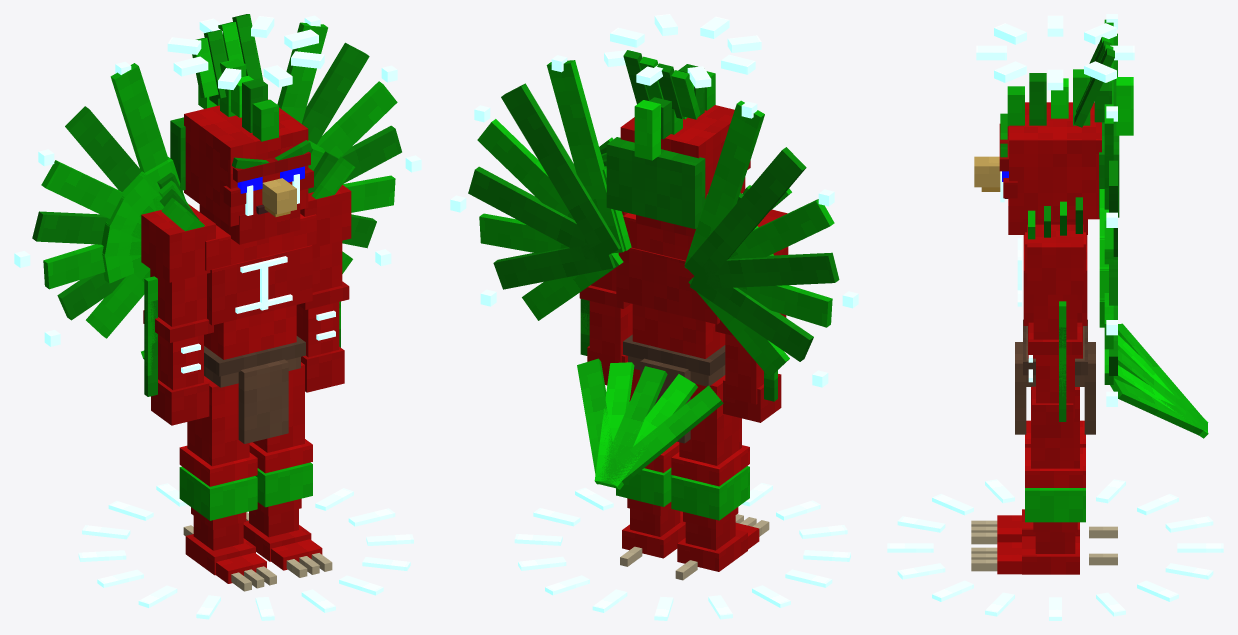
The model's file is harpy_s1_evo3.glb.
3 renders of one model, left to right at view 1: azimuth 30°, elevation 25°; view 2: azimuth 150°, elevation 25°; view 3: azimuth 270°, elevation 25°, orthographic.
Visible parts, largest first — view 1: Torso, Head, ArmR, LegR, ArmL, LegL, Root; view 2: Torso, Head, LegR, Root, LegL, ArmR, ArmL; view 3: Head, Torso, ArmL, LegL, Root, LegR.
Part boxes in pixels (x1,y1,x2,y2): Torso: [14, 15, 421, 443]; Head: [167, 14, 324, 244]; ArmR: [141, 172, 215, 425]; LegR: [179, 376, 266, 583]; ArmL: [296, 147, 355, 392]; LegL: [243, 362, 322, 570]; Root: [78, 483, 413, 620]; Torso: [450, 55, 858, 489]; Head: [604, 14, 761, 236]; LegR: [671, 375, 759, 571]; Root: [514, 483, 850, 620]; LegL: [616, 361, 685, 558]; ArmR: [715, 185, 791, 422]; ArmL: [579, 137, 632, 385]; Head: [974, 15, 1134, 234]; Torso: [1015, 14, 1208, 438]; ArmL: [1027, 197, 1083, 437]; LegL: [997, 387, 1085, 574]; Root: [887, 479, 1223, 620]; LegR: [997, 420, 1085, 542].
Bounding box in the file's own units: 1.6 × 1.94 × 1.16.
Materials: 25 (25 with a texture image).
